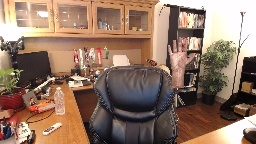Mano_aperta: (165, 36, 196, 73)
